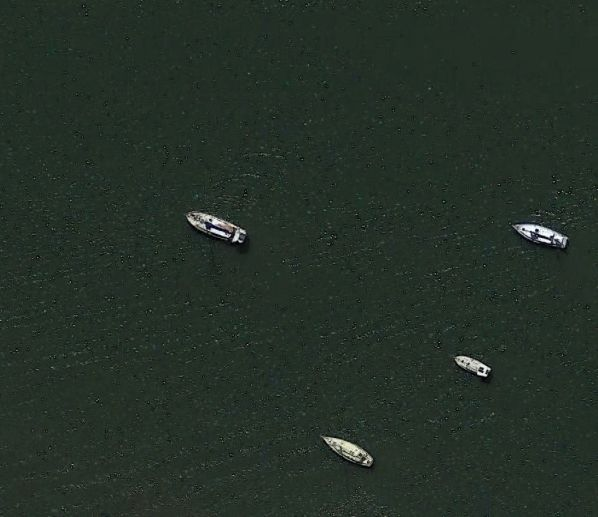boat: (184, 208, 247, 247), (319, 433, 375, 468), (512, 220, 569, 251), (451, 352, 493, 379)
